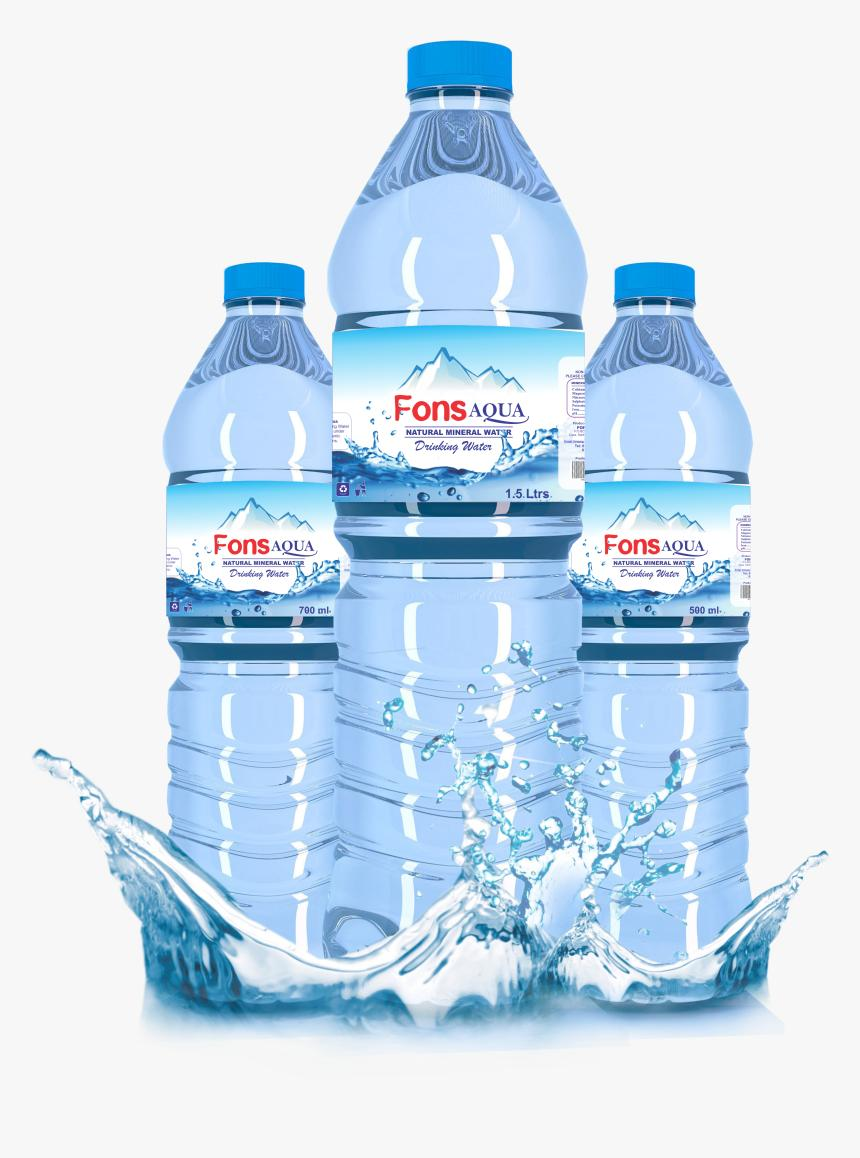bottle: (106, 0, 794, 582)
